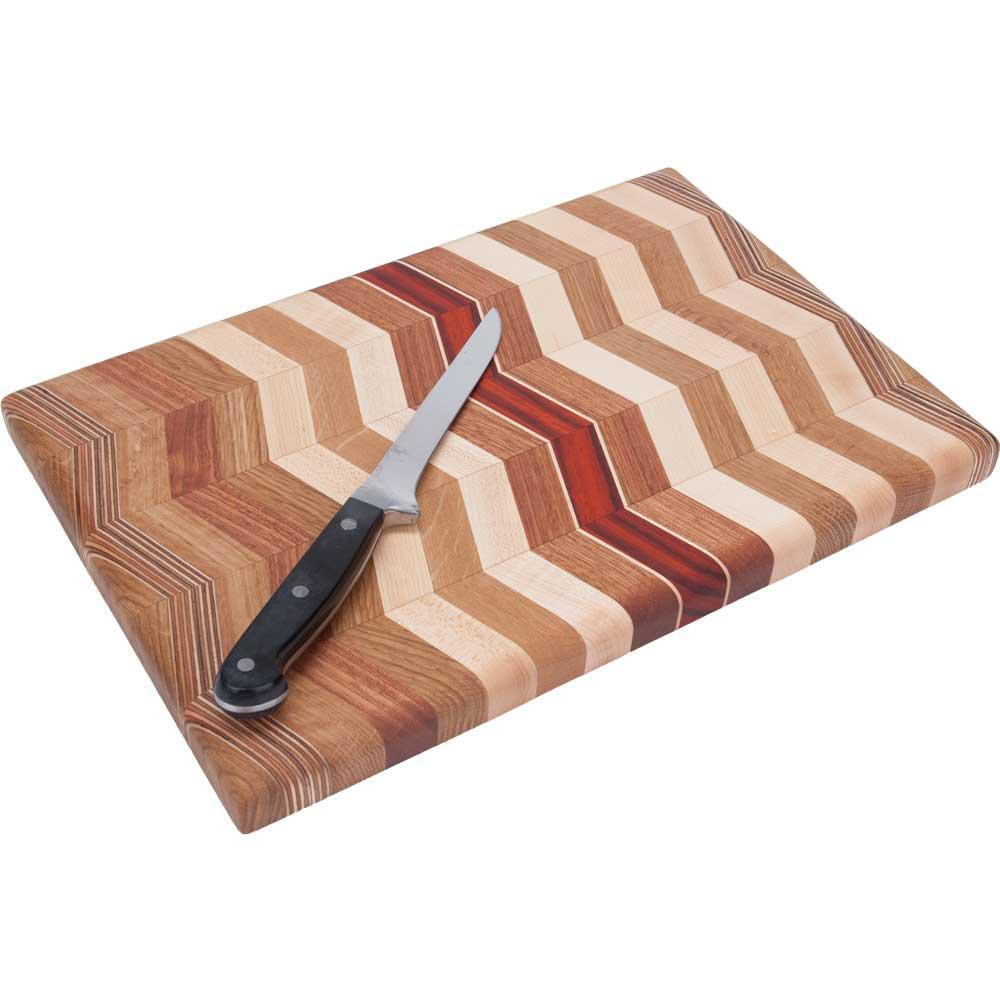gloved_hand: (3, 158, 1000, 835)
